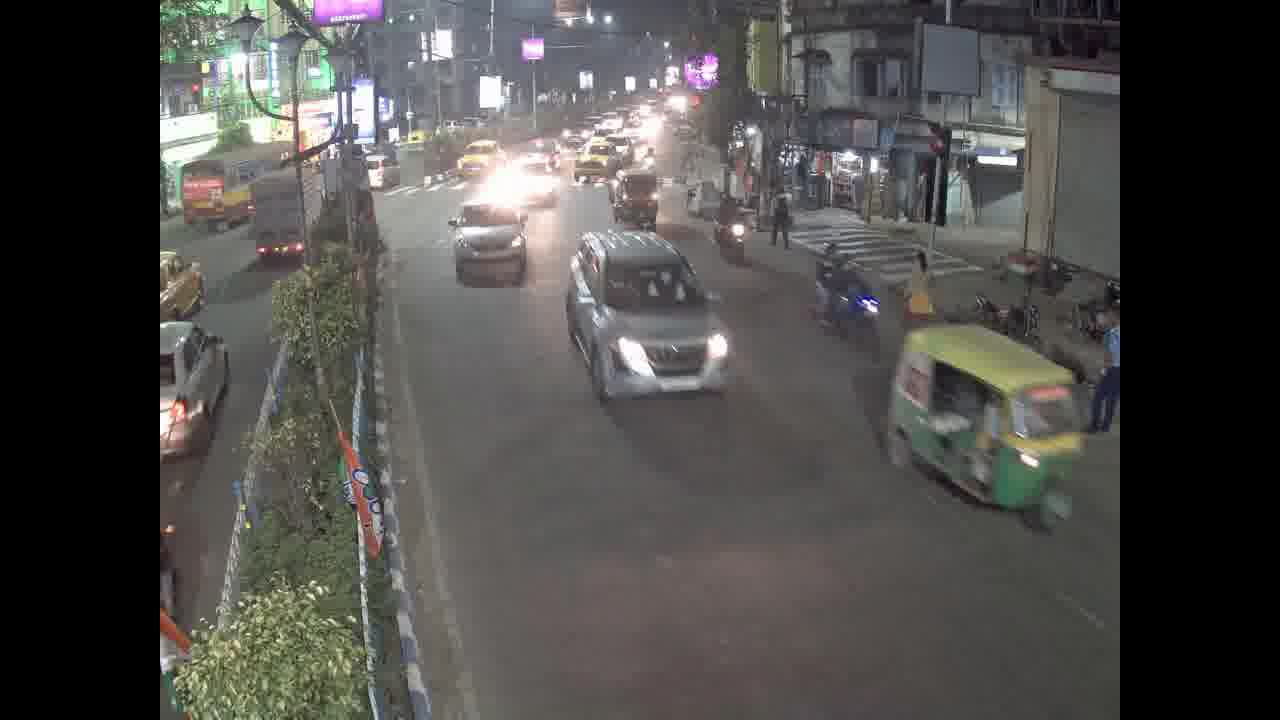auto-rickshaw: (914, 330, 1076, 526), (610, 173, 667, 234)
bike: (801, 279, 884, 361), (973, 288, 1045, 364), (710, 214, 751, 272)
car: (572, 235, 728, 391), (455, 204, 523, 275), (511, 156, 560, 194), (465, 141, 495, 179)
person: (808, 232, 863, 297), (898, 250, 941, 333), (769, 186, 795, 250)
